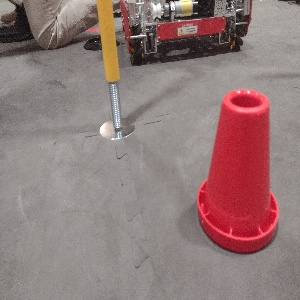Red_1: (196, 87, 278, 254)
